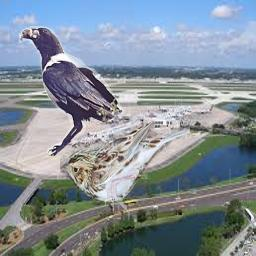Crow: (19, 26, 126, 156)
Sparrow: (60, 120, 190, 202)
